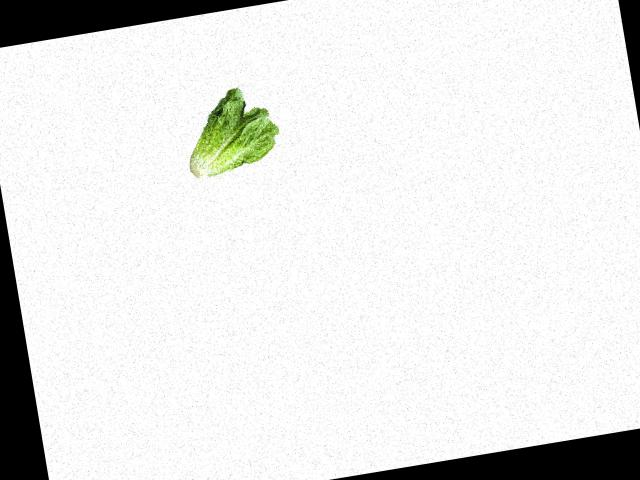lettuce: (172, 78, 285, 188)
